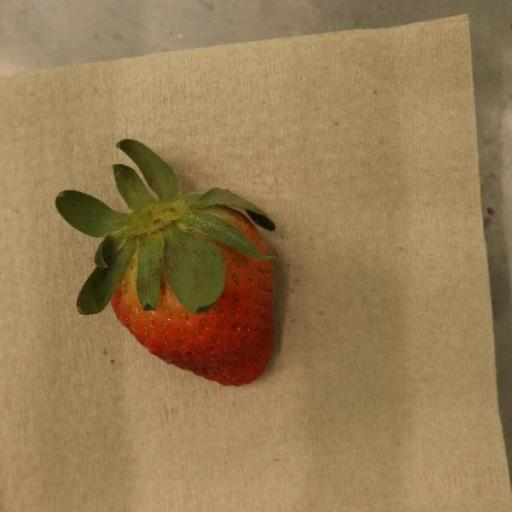Strawberry: (55, 139, 277, 388)
